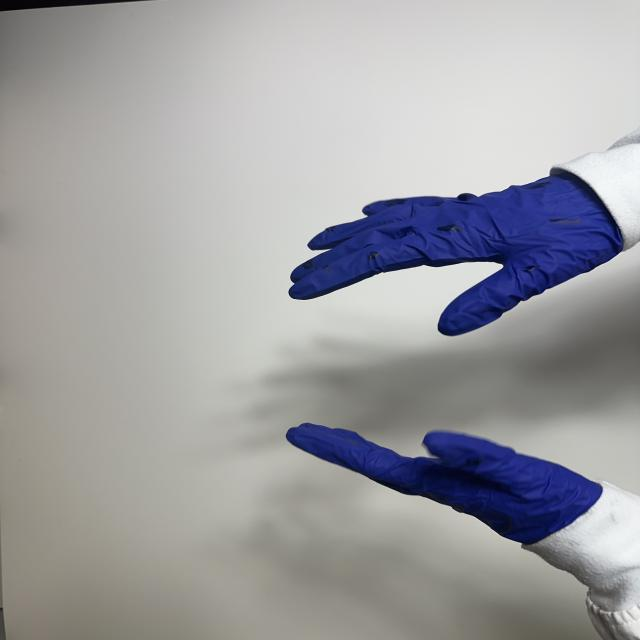gloves_contaminated: (274, 167, 629, 339), (284, 416, 610, 563)
